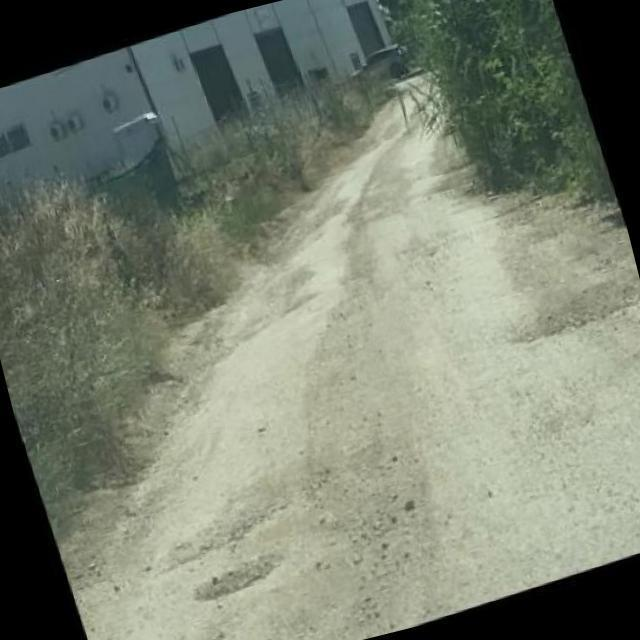Pothole: (192, 553, 284, 600)
